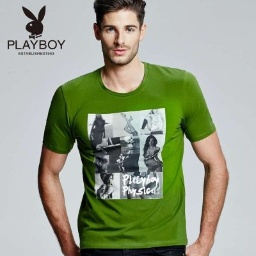face: (88, 1, 149, 68)
